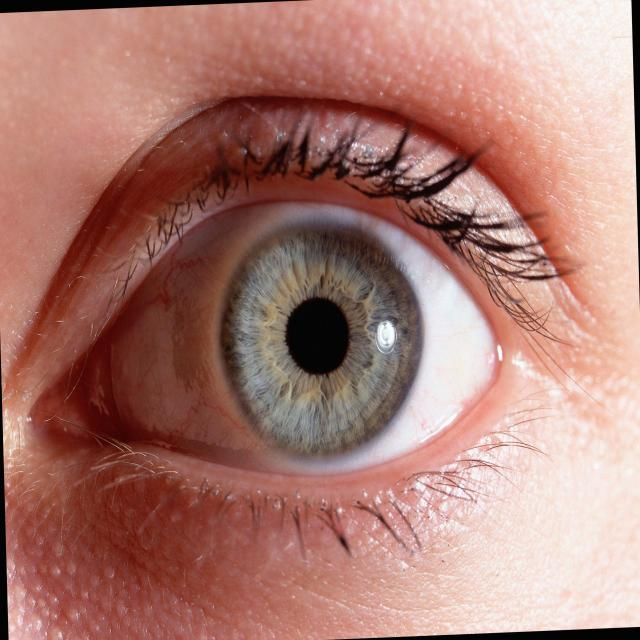Healthy-Eye: (69, 102, 542, 524)
